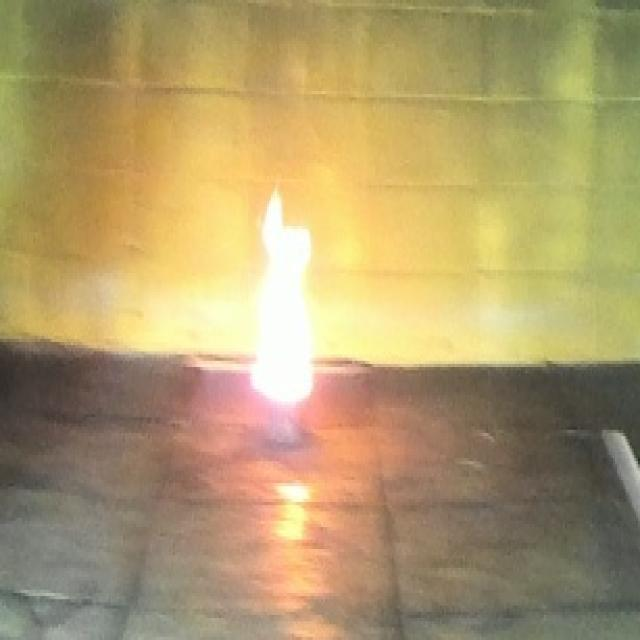Fire: (250, 185, 314, 403)
